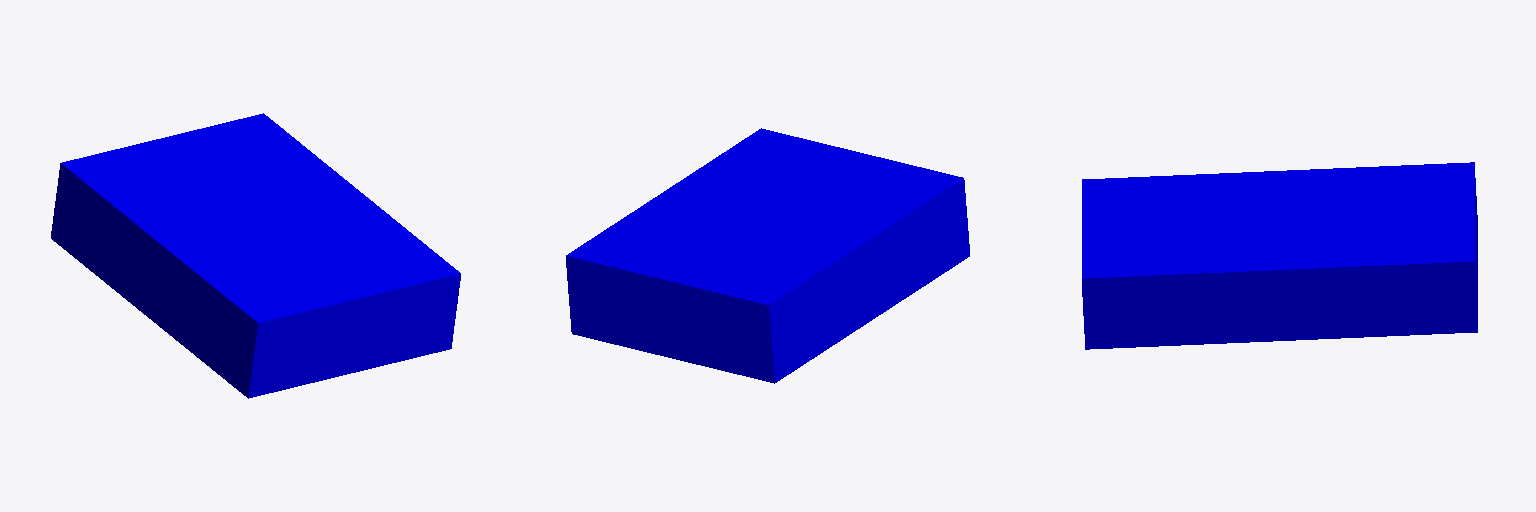
File: planes_1-dynamic - BLK2GO-3630355-Scan 080 16.obj
3 views of the same model, side by side, from view 1: azimuth 30°, elevation 25°; view 2: azimuth 150°, elevation 25°; view 3: azimuth 270°, elevation 25° (orthographic).
Visible parts, largest first — view 1: 1-dynamic_-_BLK2GO-[number redacted]-Scan_080_16_0; view 2: 1-dynamic_-_BLK2GO-[number redacted]-Scan_080_16_0; view 3: 1-dynamic_-_BLK2GO-[number redacted]-Scan_080_16_0.
Boxes of the visible parts, box(x1,y1,x2,y2) form: 1-dynamic_-_BLK2GO-[number redacted]-Scan_080_16_0: box(51, 113, 460, 398); 1-dynamic_-_BLK2GO-[number redacted]-Scan_080_16_0: box(566, 128, 969, 383); 1-dynamic_-_BLK2GO-[number redacted]-Scan_080_16_0: box(1082, 162, 1477, 349).
Size of the model in its own units: 1.06 by 0.4348 by 1.71.